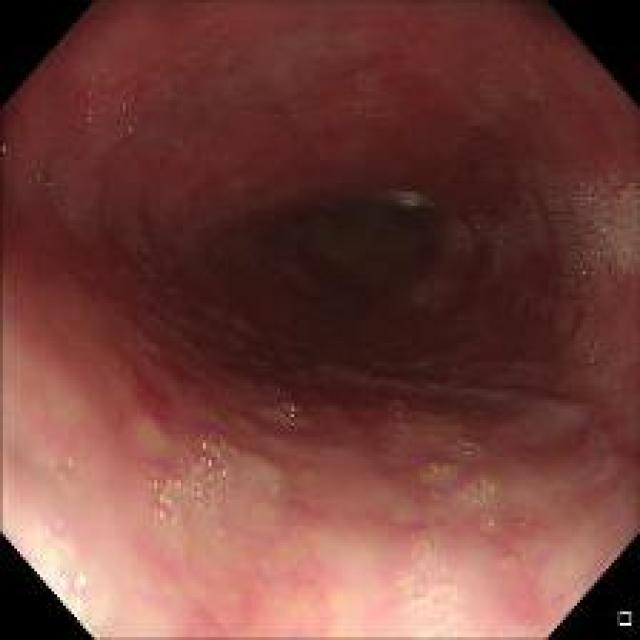bubbles: (539, 161, 636, 326), (386, 524, 474, 631), (448, 191, 540, 269), (460, 69, 512, 132), (345, 66, 384, 124), (456, 472, 506, 516), (268, 390, 312, 429), (412, 451, 455, 489), (581, 331, 609, 374), (24, 169, 59, 194), (455, 429, 482, 460), (131, 239, 156, 269), (444, 365, 468, 391), (85, 105, 101, 125), (161, 82, 178, 100), (141, 280, 156, 299), (124, 118, 138, 138)
color misalignment: (145, 422, 238, 532)
contrast: (1, 1, 638, 396)
saturation: (9, 479, 129, 635)
